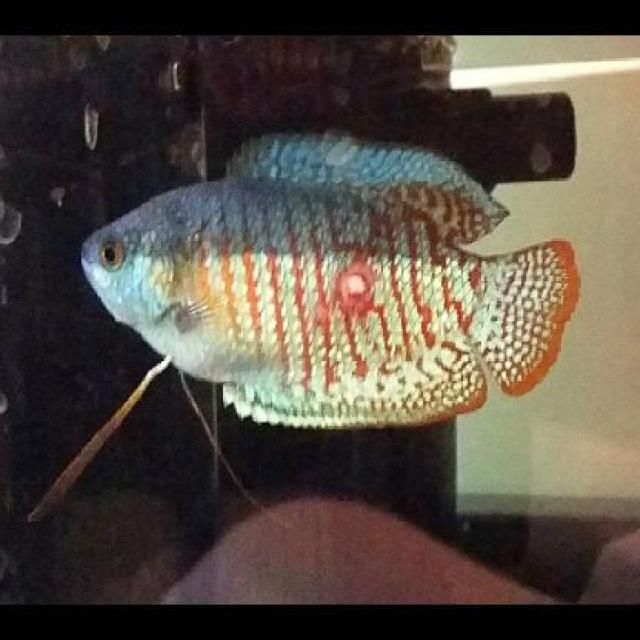Gourami: (89, 132, 576, 428)
